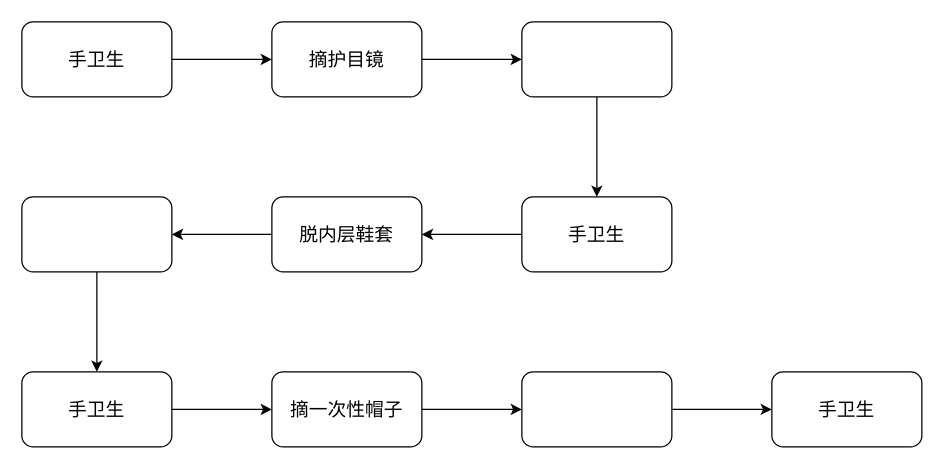
Image size: 944x469. Some labels were removed from this diagram. Here are the shapes that lost their labels. From the top down, the centre of each, then its label:
the point at 596,59: 脱防护服、外层手套、外层靴套
the point at 96,234: 脱内层手套
the point at 596,409: 摘医用防护口罩
